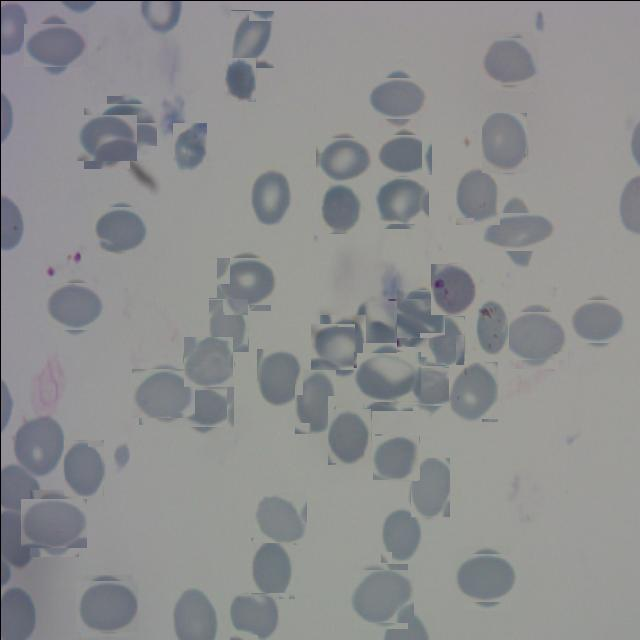leukocyte: (350, 566, 410, 626), (358, 346, 417, 406), (12, 412, 64, 478), (24, 494, 82, 552), (504, 306, 562, 364), (77, 576, 134, 634), (134, 364, 190, 421), (448, 359, 498, 422), (314, 318, 370, 374), (458, 550, 514, 606), (491, 202, 546, 258), (28, 17, 82, 71), (481, 34, 535, 88), (219, 253, 273, 307), (79, 110, 133, 164), (294, 367, 336, 433), (48, 280, 101, 332), (253, 492, 306, 544), (374, 174, 426, 226), (455, 164, 500, 224), (481, 112, 526, 172), (250, 537, 294, 598), (256, 348, 302, 406), (318, 133, 369, 184), (101, 99, 152, 150), (94, 202, 144, 254), (249, 166, 293, 225), (230, 9, 274, 67), (327, 407, 371, 464), (372, 72, 422, 122), (572, 296, 622, 346), (182, 336, 232, 386), (406, 360, 455, 409), (380, 505, 422, 562), (229, 592, 279, 639), (410, 458, 449, 518), (392, 293, 439, 342), (380, 131, 428, 178), (182, 382, 230, 429), (63, 439, 103, 495), (320, 180, 362, 233), (354, 300, 396, 352), (208, 298, 248, 352), (373, 434, 419, 480), (474, 296, 508, 355), (428, 315, 464, 364), (172, 122, 206, 172), (221, 57, 255, 101)
red blood cell: (430, 263, 475, 314)
